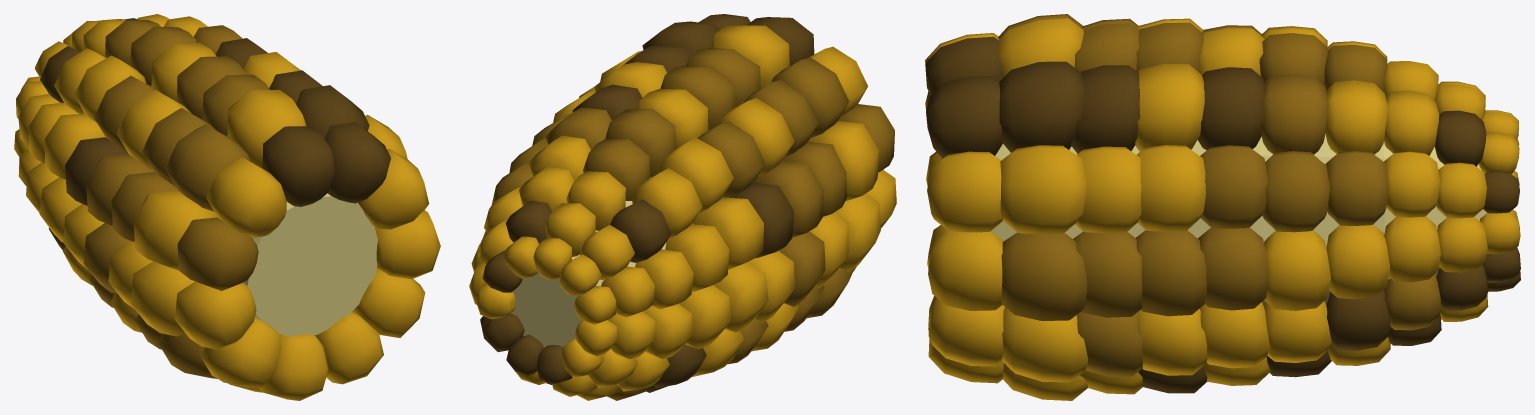
Rendered from roasted_corn.glb.
3 views of the same model, side by side, from view 1: azimuth 30°, elevation 25°; view 2: azimuth 150°, elevation 25°; view 3: azimuth 270°, elevation 25° (orthographic). The views are drawn at different scales.
Parts seen in each view (by area): view 1: RoastedCorn; view 2: RoastedCorn; view 3: RoastedCorn.
Part boxes in pixels (x1,y1,x2,y2): RoastedCorn: (14,14,440,400); RoastedCorn: (469,14,896,400); RoastedCorn: (925,14,1520,400).
Bounding box in the file's own units: 1.98 × 2 × 3.06.
